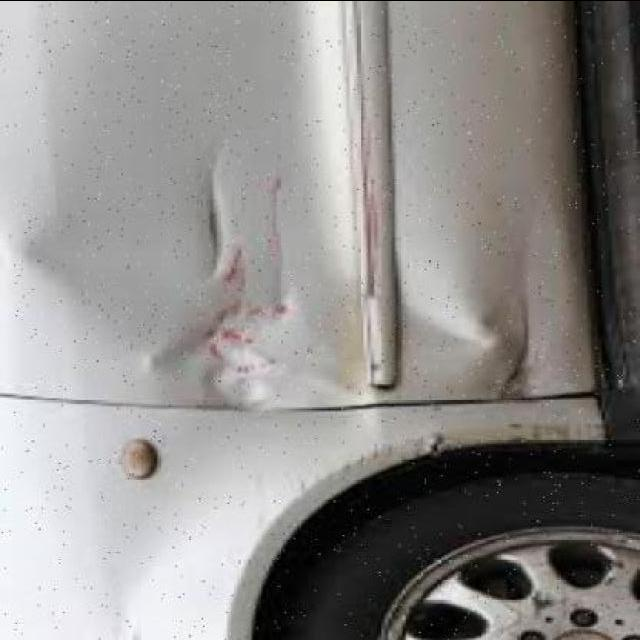doorouter-dent: (0, 2, 581, 398)
fender-dent: (3, 405, 600, 640)
